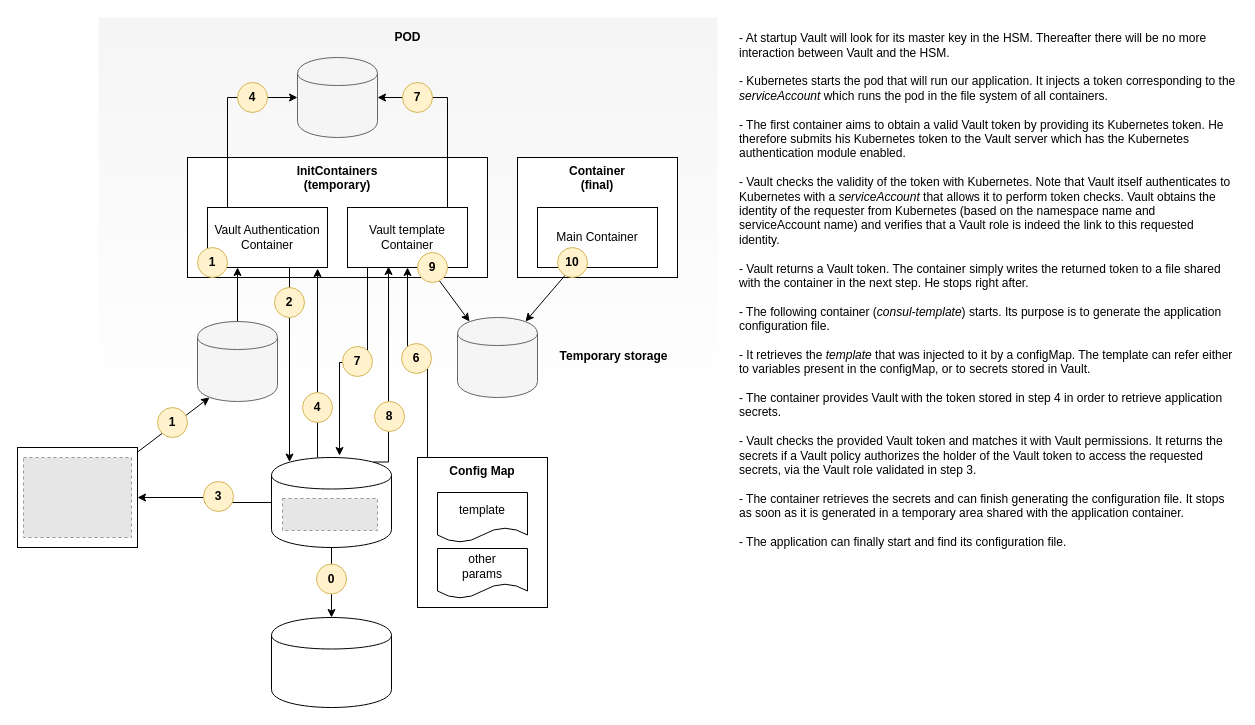
Image size: 1255x725. Some labels were removed from this diagram. Grey dashed boxes stand in for pictures. The shapes that lost their labels are listed below. From the top down, each one's centre as x and y in pixels, then its label:
(337,97): vault token
(237,361): k8s token
(497,357): Config. file
(331,662): HSM
